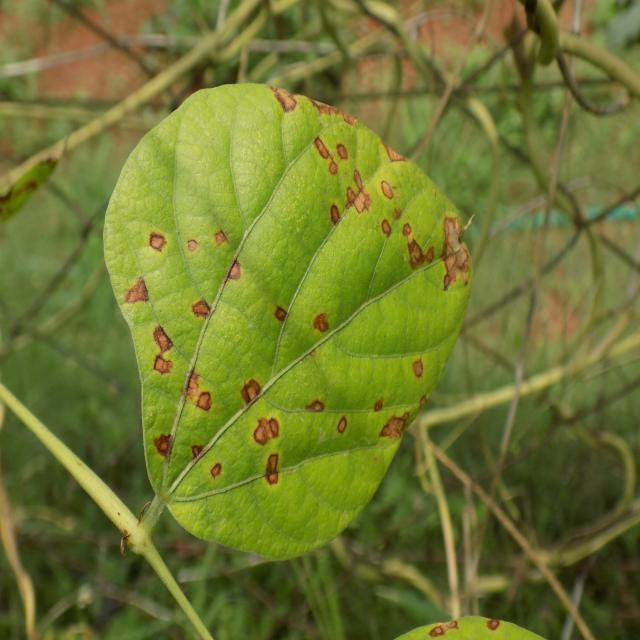Dolicos bean_cercospora leaf spot: (105, 77, 476, 554)
